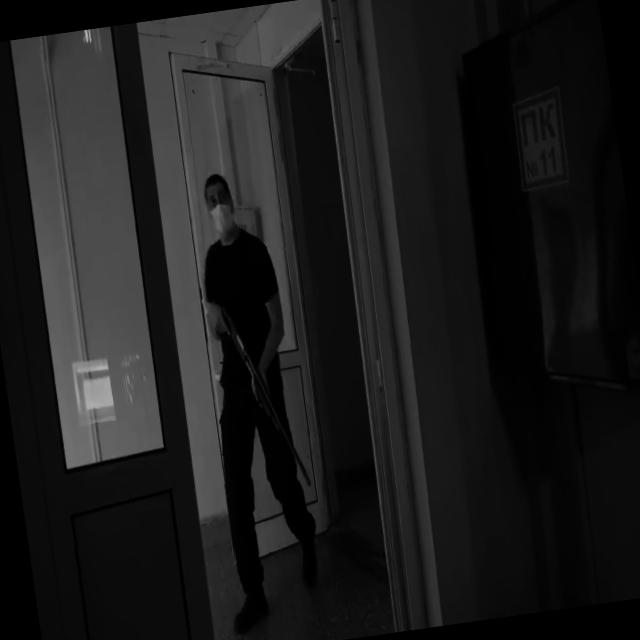gun: (218, 292, 312, 498)
person with a gun: (172, 167, 331, 633)
